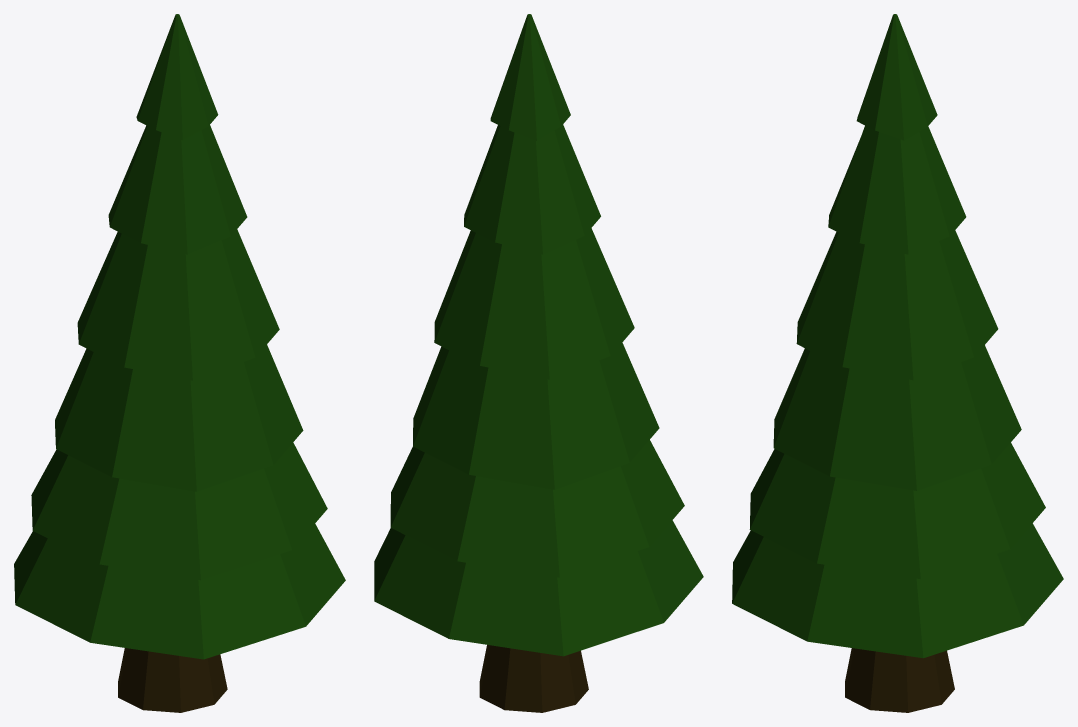
File: pineTree.obj
The picture shows the model from 3 angles, left to right: view 1: azimuth 30°, elevation 25°; view 2: azimuth 150°, elevation 25°; view 3: azimuth 270°, elevation 25°; orthographic projection.
Visible parts, largest first — view 1: lowpolytree:Mesh; view 2: lowpolytree:Mesh; view 3: lowpolytree:Mesh.
Boxes of the visible parts, bbox=[...] form: lowpolytree:Mesh: bbox=[14, 14, 345, 712]; lowpolytree:Mesh: bbox=[374, 14, 703, 712]; lowpolytree:Mesh: bbox=[732, 14, 1063, 712].
Bounding box in the file's own units: 2.31 × 5.12 × 2.28.
Materials: 1 (1 with a texture image).
